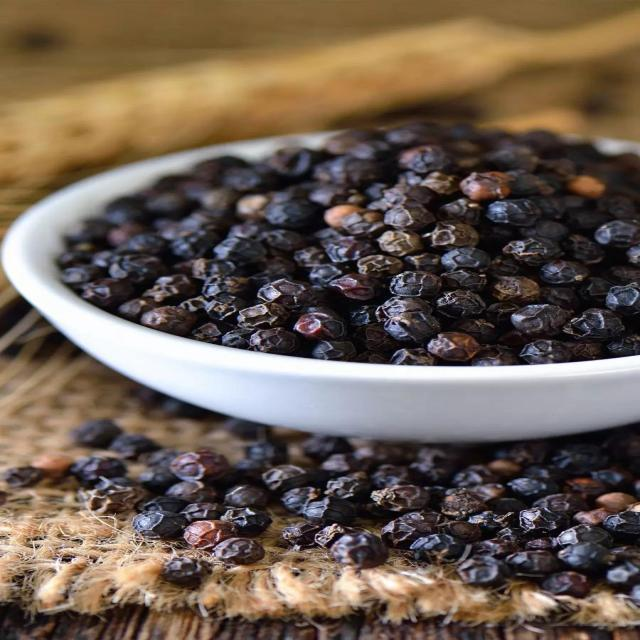Black pepper: (60, 106, 640, 348), (21, 446, 640, 592)
